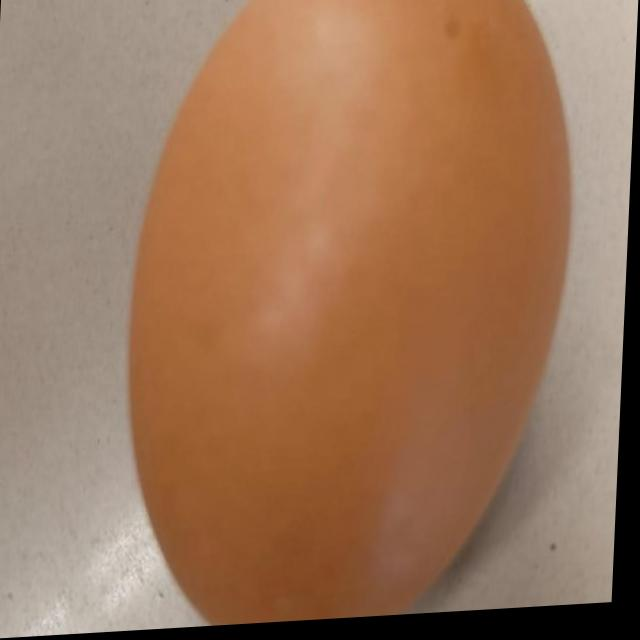fresh: (104, 0, 598, 634)
